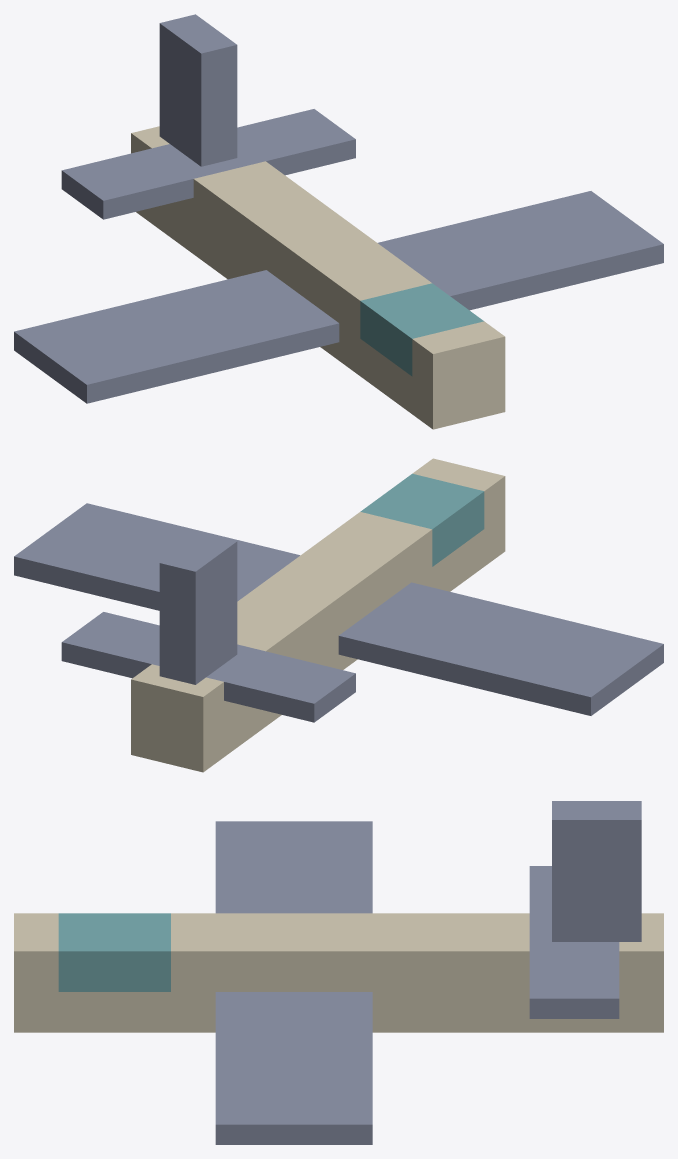
Rendered from aerospace-15.glb.
3 renders of one model, top to bottom at view 1: azimuth 30°, elevation 25°; view 2: azimuth 150°, elevation 25°; view 3: azimuth 270°, elevation 25°, orthographic. The views are drawn at different scales.
Visible parts, largest first — view 1: Airplane model; view 2: Airplane model; view 3: Airplane model.
Part boxes in pixels (<box>): Airplane model: <box>14,14,663,429</box>; Airplane model: <box>14,458,663,772</box>; Airplane model: <box>14,801,663,1144</box>.
Size of the model in its own units: 2.56 by 0.8 by 2.32.
